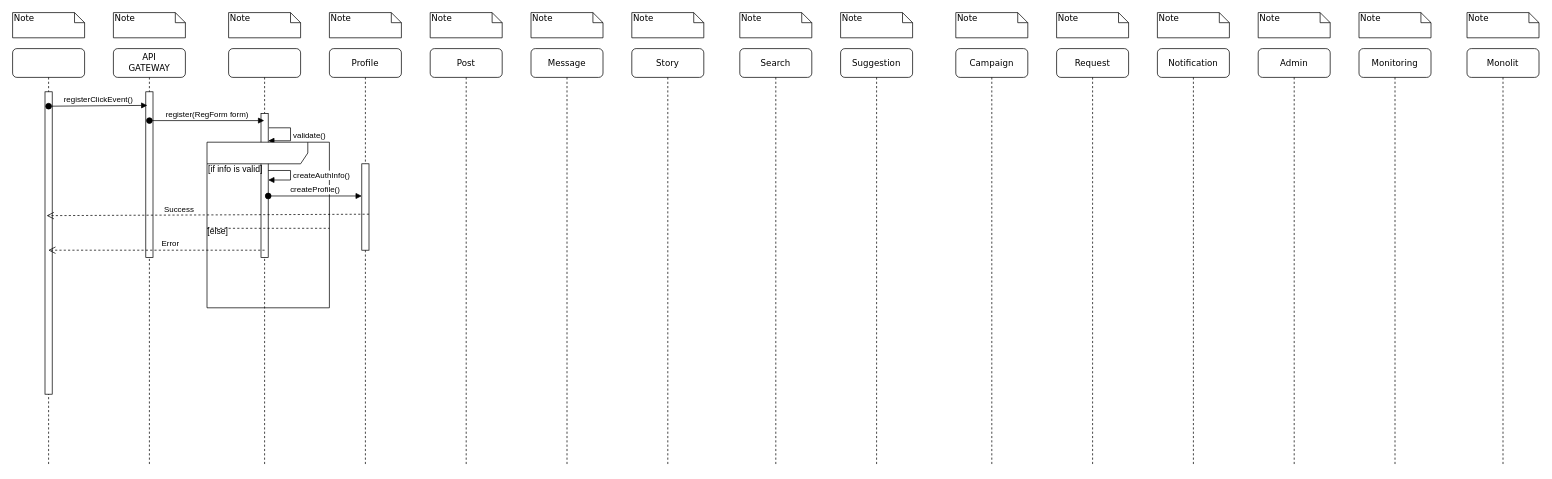
Image size: 1552x479. Some labels were removed from this diagram. The box of each missing label's shape, as (x1, y1, x2, y2) in pixels:
alt: (206, 141, 329, 308)
Authentication: (228, 48, 301, 466)
UI: (12, 48, 85, 466)
